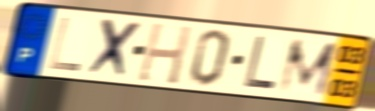0: (187, 27, 233, 89)
H: (135, 20, 195, 87)
L: (241, 34, 278, 93), (47, 16, 83, 74)
M: (276, 38, 341, 97)
X: (83, 16, 145, 82)
